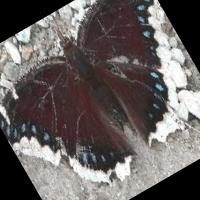butterfly: (0, 0, 200, 183)
